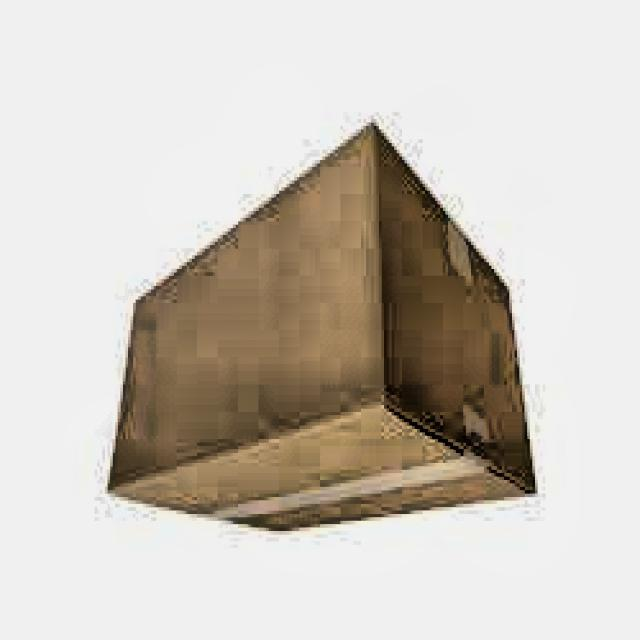cardboard: (105, 122, 538, 538)
